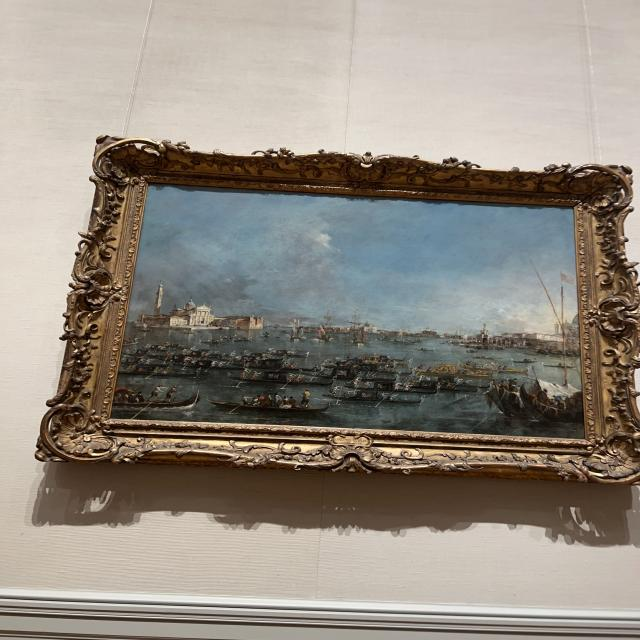ships: (118, 188, 578, 432)
